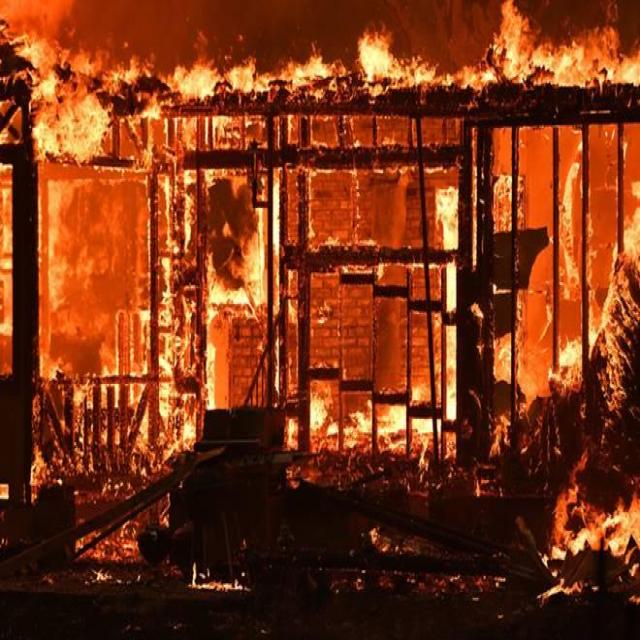Fire: (1, 7, 640, 634)
